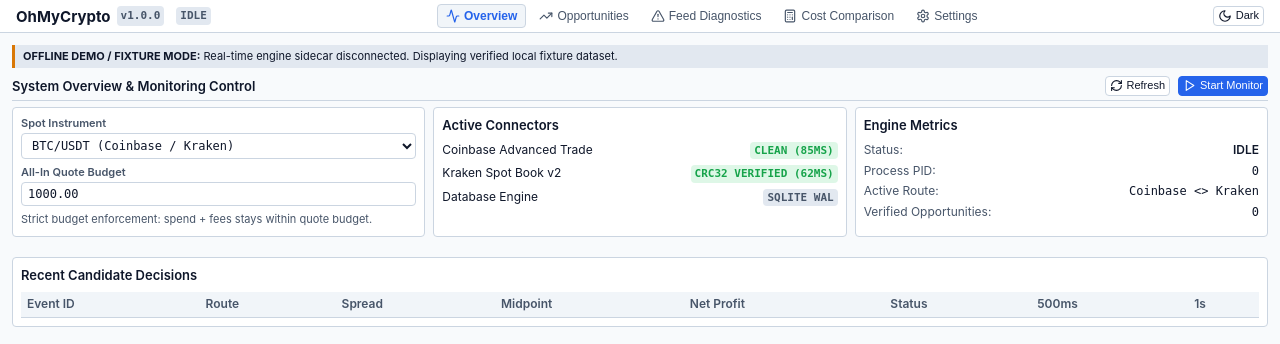
Scenario: OhMyCrypto Desktop UI › switches to Opportunities view upon click
Click the button "Opportunities": (584, 16) [530,4,638,28]
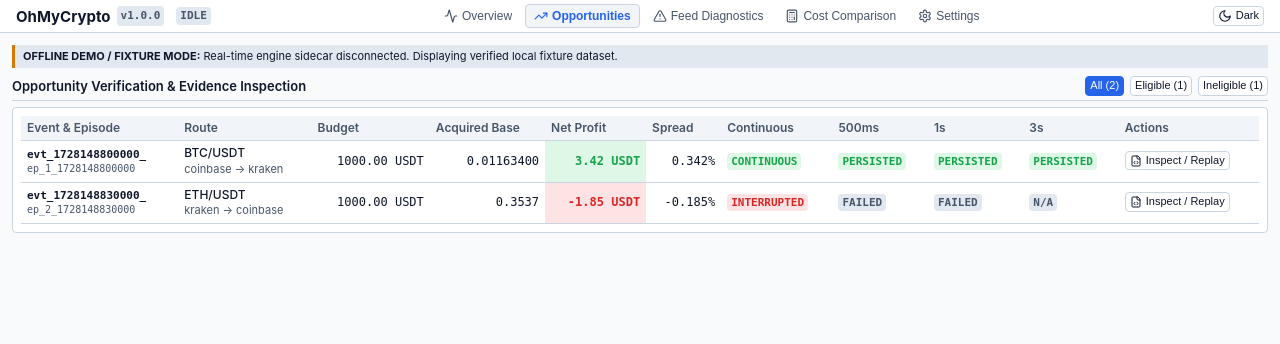
Result: the heading "Opportunity Verification & Evidence Inspection" is shown at [12,77,306,95]
